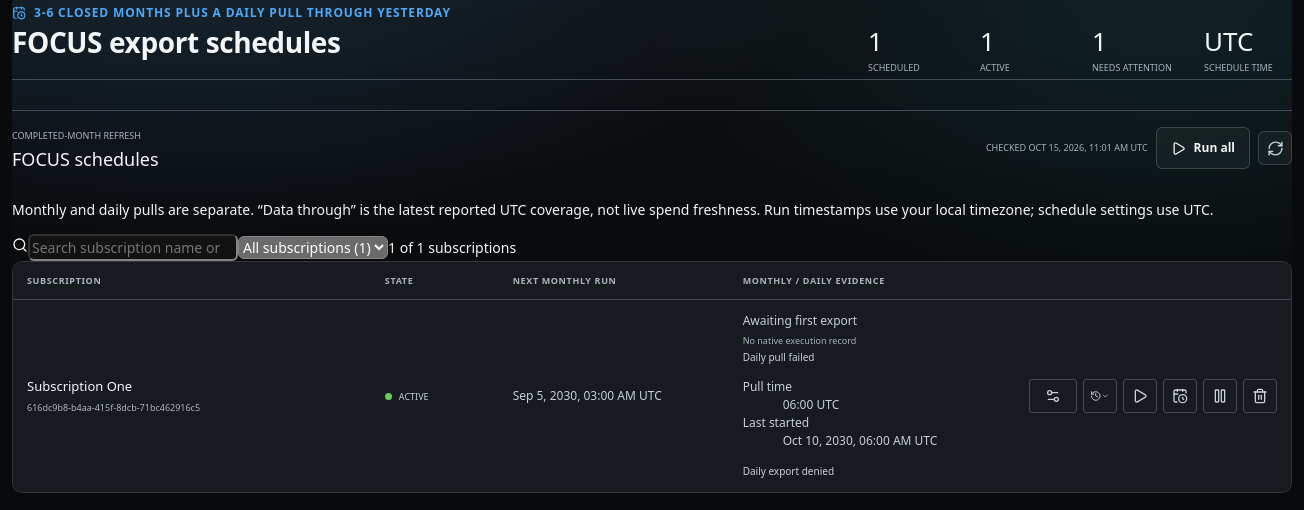
it: Open Schedules › distinguishes daily completion from start timestamps and displays errors inline
Check: the element showing "Pull time 06:00 UTC Last started Oct 10, 2030, 06:00 AM UTC" is shown, box x1=743 y1=378 x2=937 y2=448
Check: the text "Daily export denied" is shown, box x1=743 y1=464 x2=834 y2=478
Click the button named "Refresh schedules": (1275, 148) x1=1258 y1=131 x2=1292 y2=165
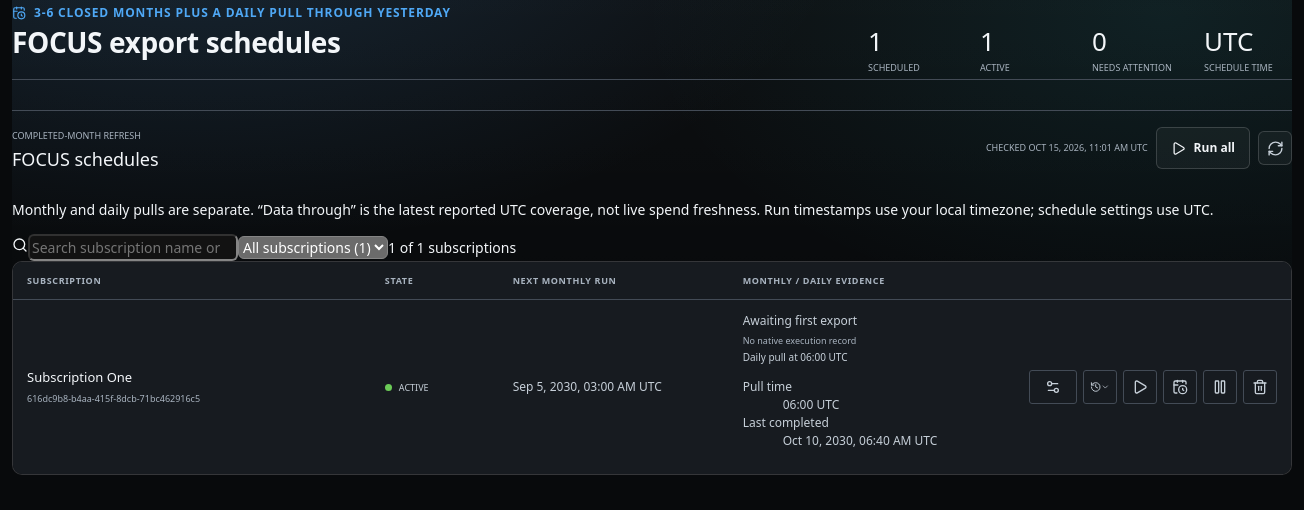
Check: the element that starts with "Pull time" shows "Last completed", box x1=743 y1=414 x2=829 y2=430
